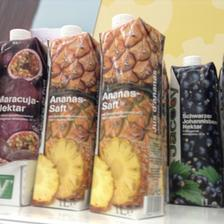Saft: (88, 15, 166, 219), (29, 25, 97, 214), (166, 55, 222, 206), (0, 28, 46, 178)
